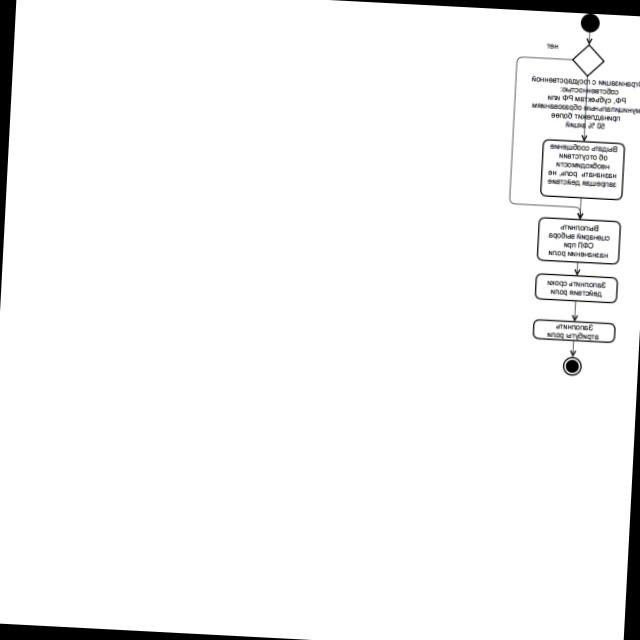arrow: (502, 52, 594, 220), (580, 77, 591, 142), (569, 300, 583, 322), (568, 339, 579, 358), (576, 198, 586, 218), (570, 262, 584, 276), (585, 32, 592, 44)
circle: (581, 14, 598, 33), (563, 357, 580, 375)
diamond: (572, 46, 603, 76)
rectangle: (540, 140, 624, 199), (537, 218, 619, 264), (535, 273, 616, 303), (532, 319, 614, 343)
text_region: (524, 71, 640, 134), (543, 39, 565, 54)
